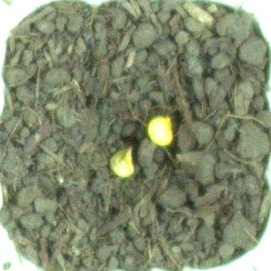pepper seed: (56, 40, 234, 189), (38, 54, 175, 235)
